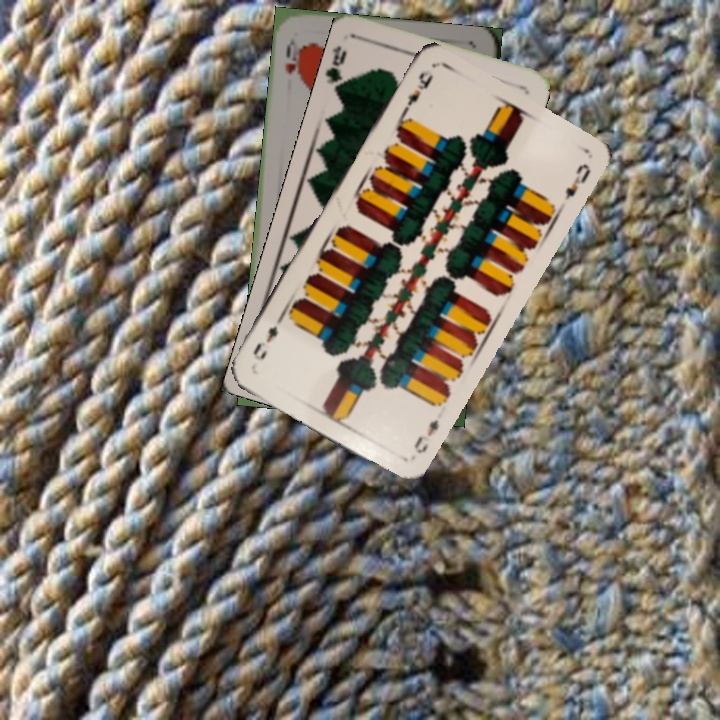E9: (397, 65, 436, 119), (409, 415, 442, 457)
G9: (322, 41, 351, 95)
HO: (281, 35, 306, 84)
